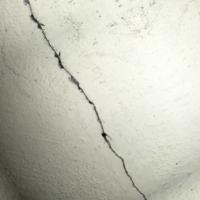crack: (18, 0, 150, 200)
